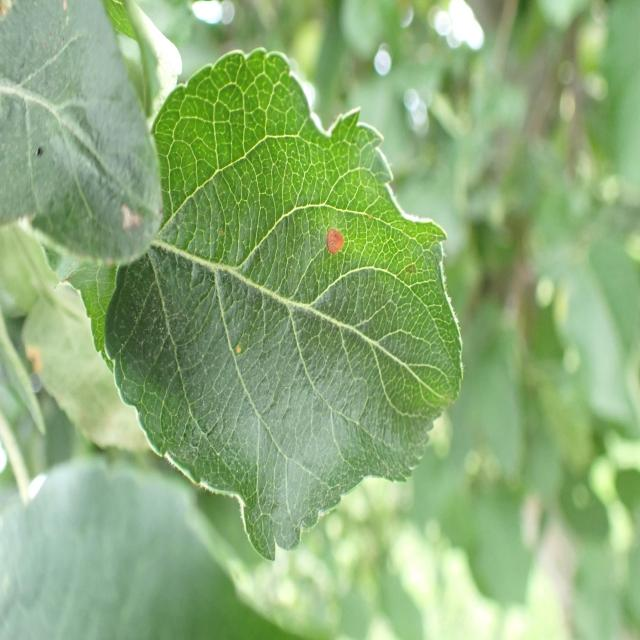Black Rot: (319, 213, 354, 280), (114, 199, 154, 254)
